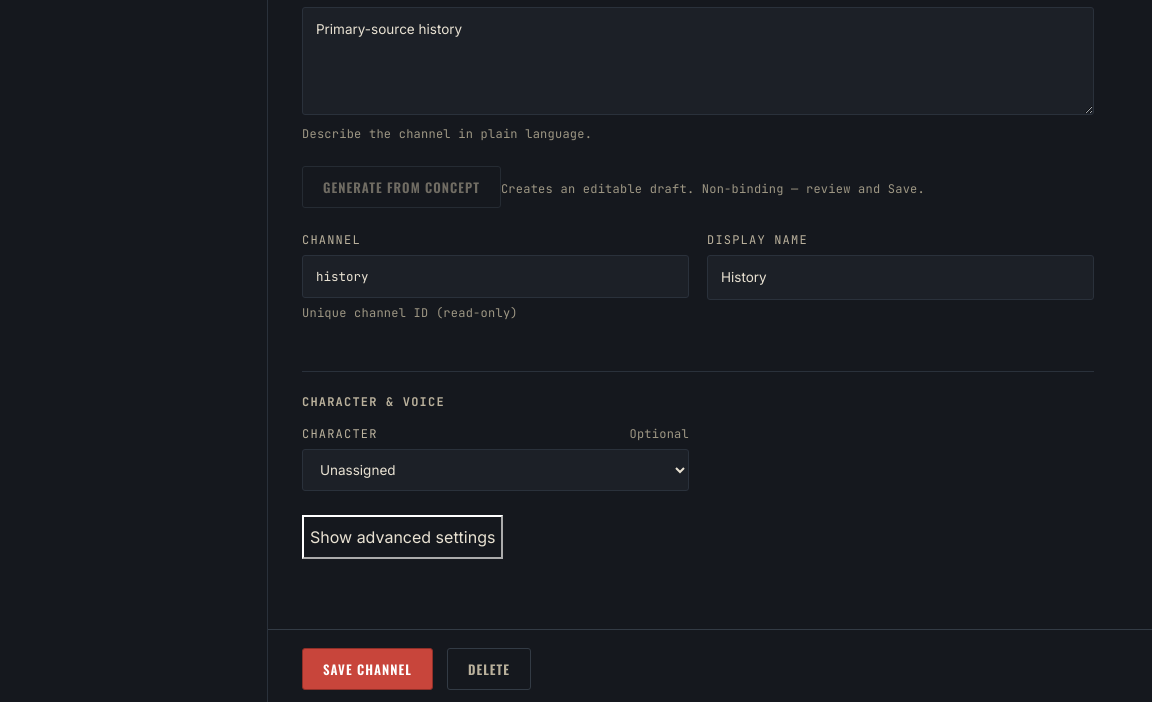
Test: ChannelProfilesPanel saves › surfaces an RPC failure and does not continue to the profile upsert
This screenshot has width=1152, height=702.
(page scrolled)
Click the button "Show advanced settings" at (403,537), box [302, 515, 503, 559]
(page scrolled)
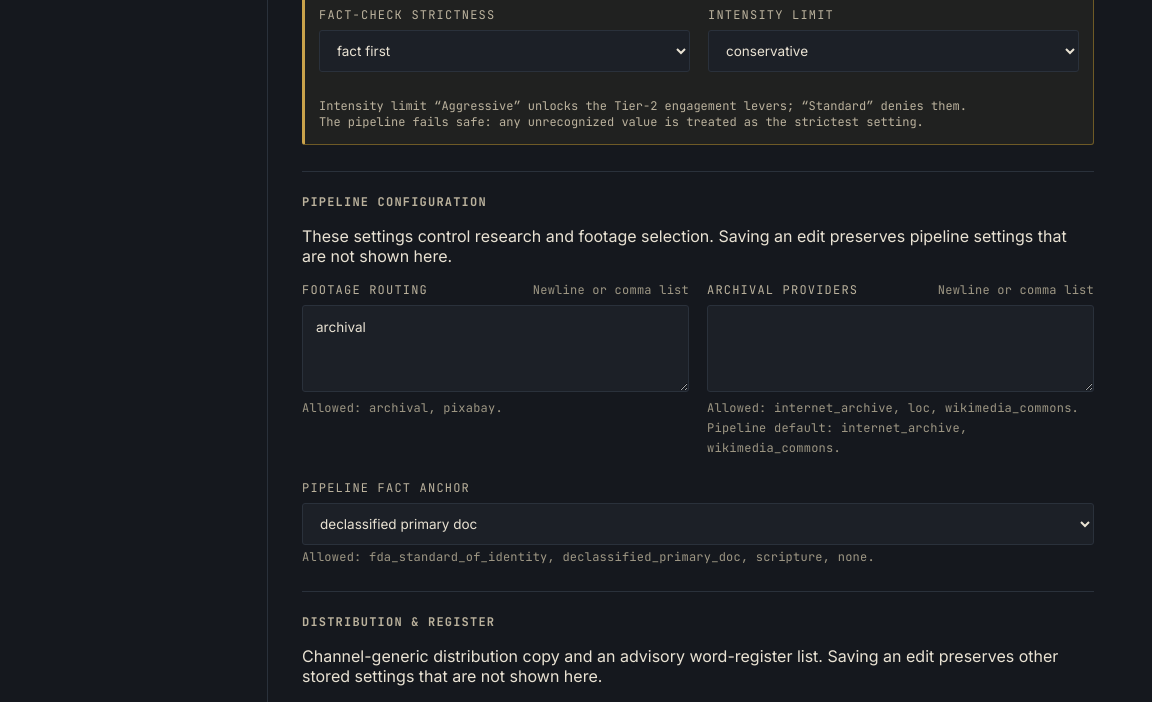
Replace the text in the text box labelled "Footage routing Newline or comma list" with "pixabay" at (496,349), box [302, 305, 689, 392]
(page scrolled)
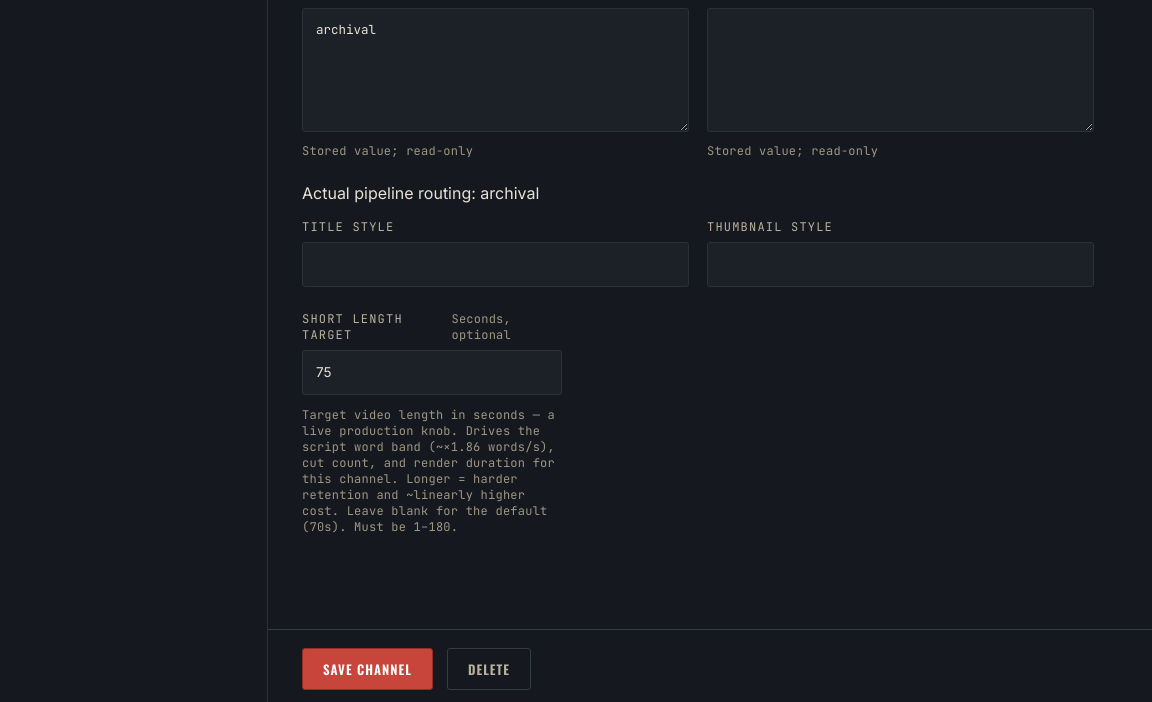
Click the button "Save channel" at (367,669), box [302, 648, 433, 690]
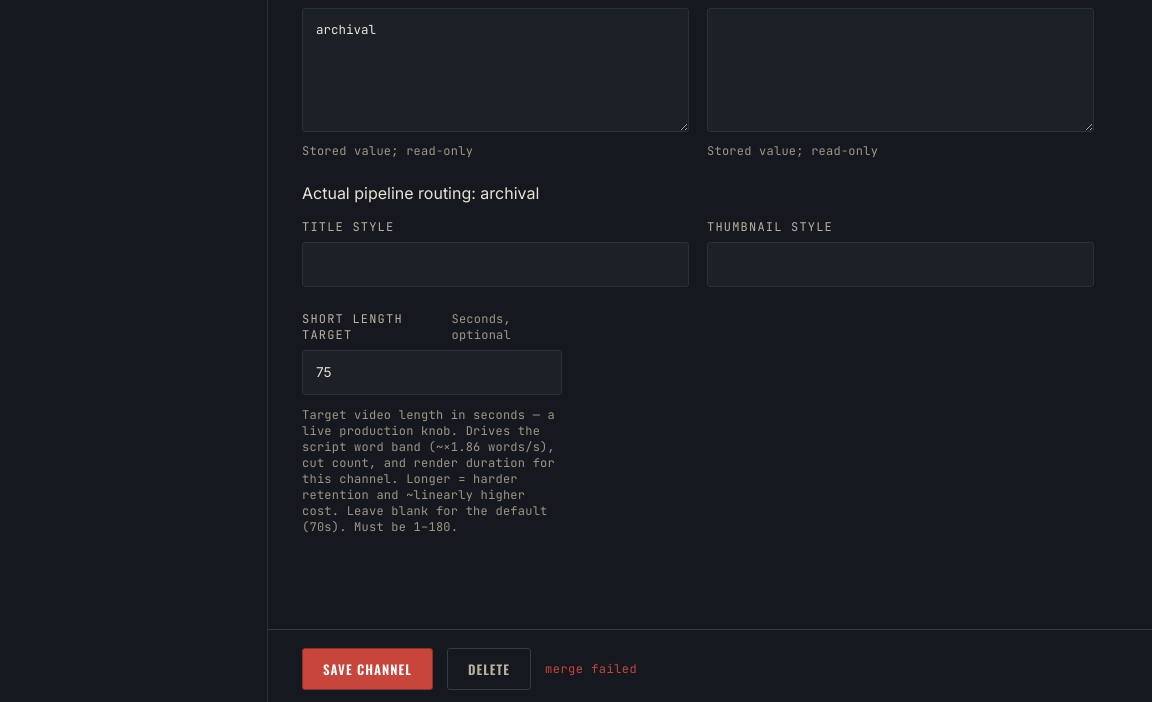
Expected: the text "merge failed" is shown, [545, 661, 637, 677]
